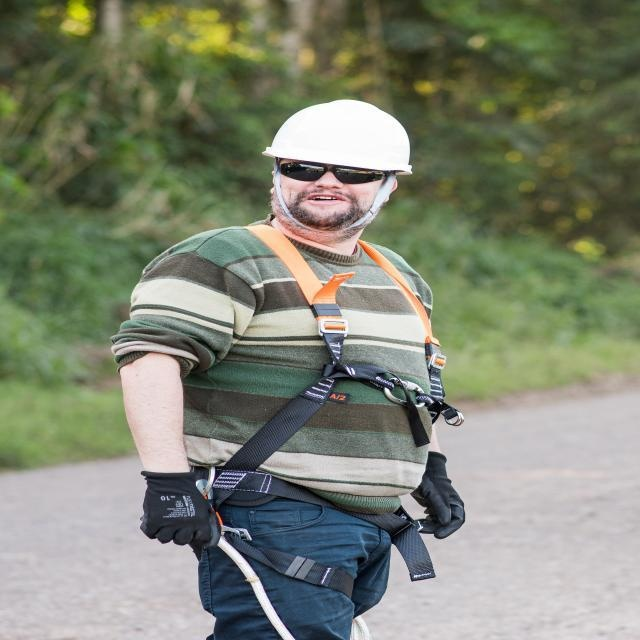Arnes_seguridad: (180, 216, 467, 624)
